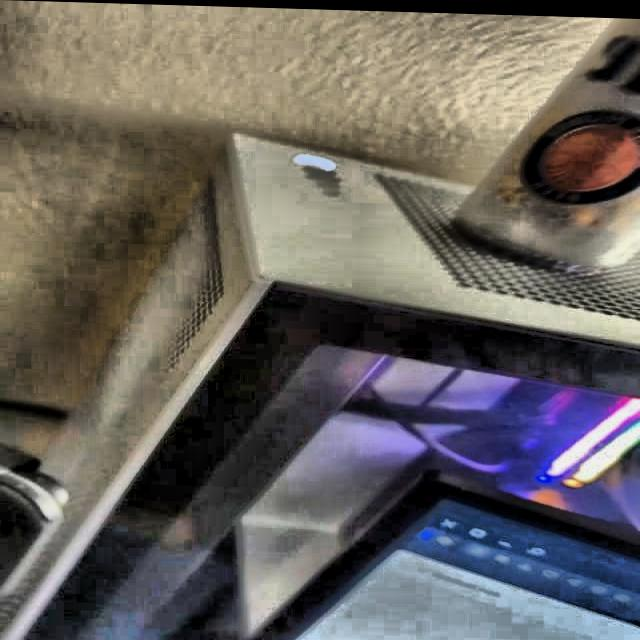can: (442, 10, 640, 274)
